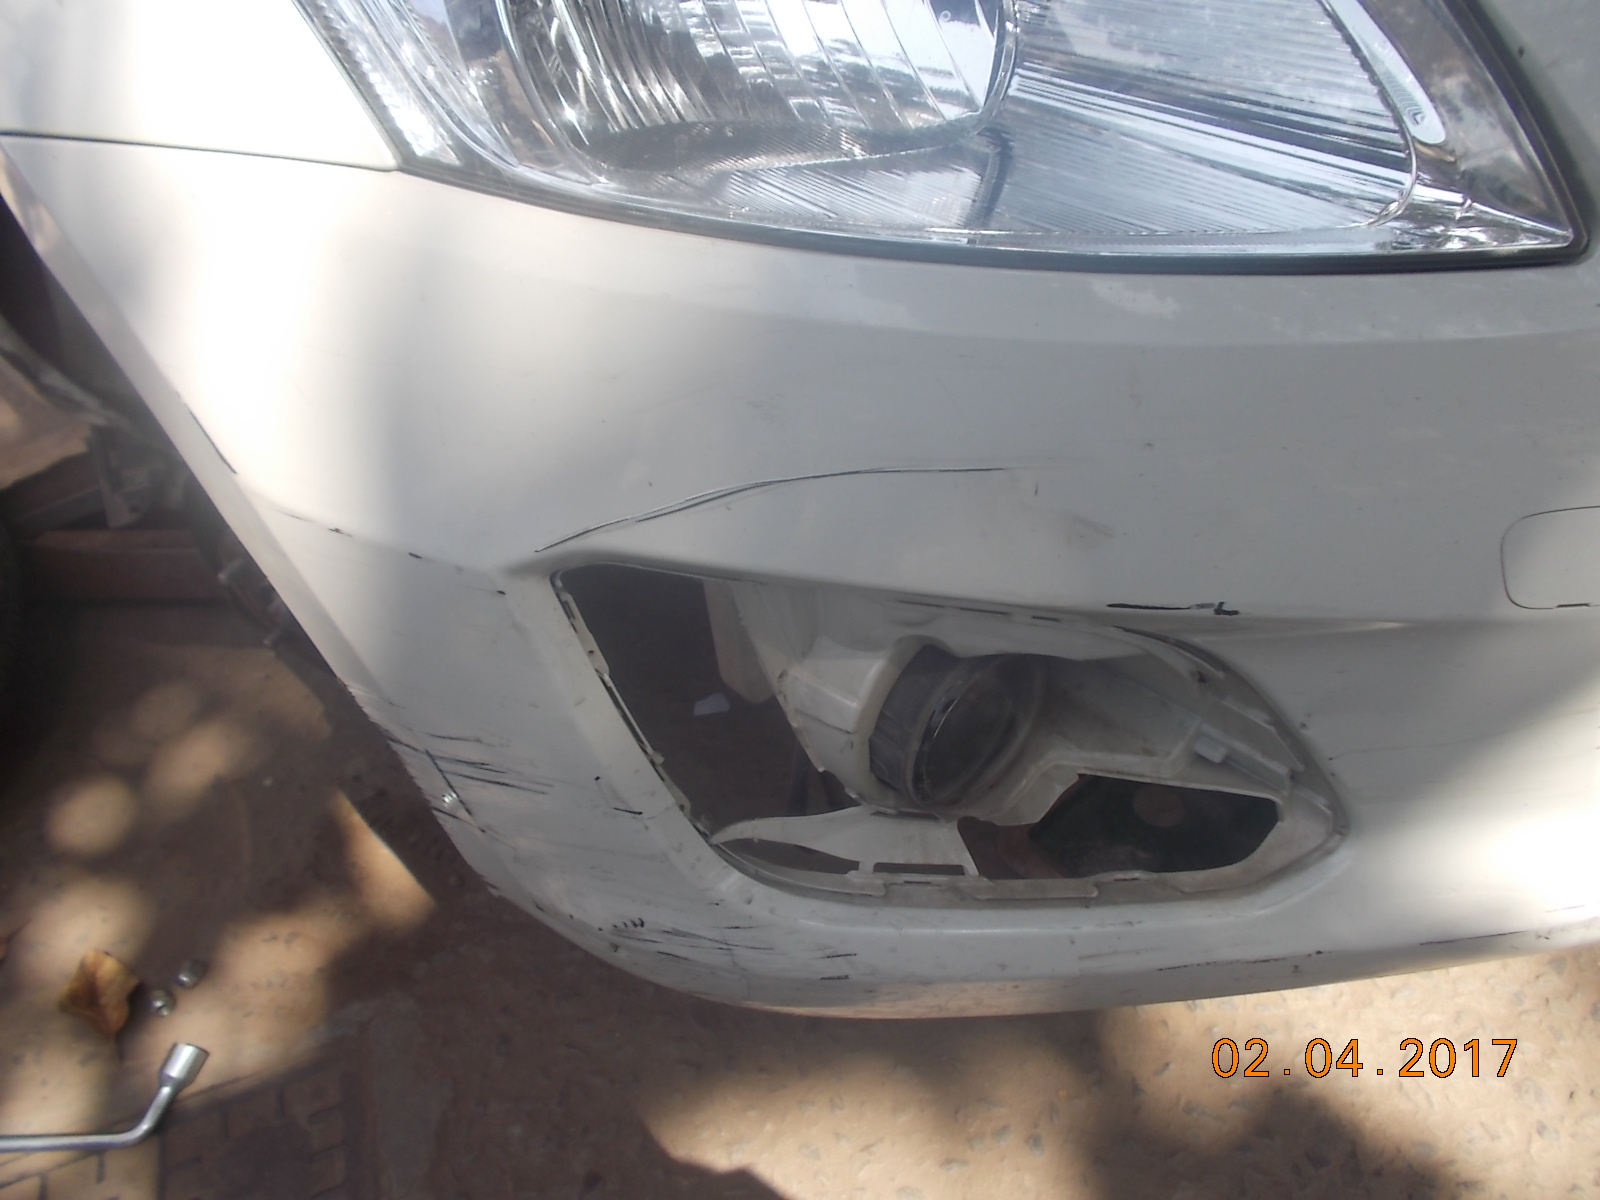Scratch_or_spot: (583, 437, 986, 527), (414, 712, 538, 814)
